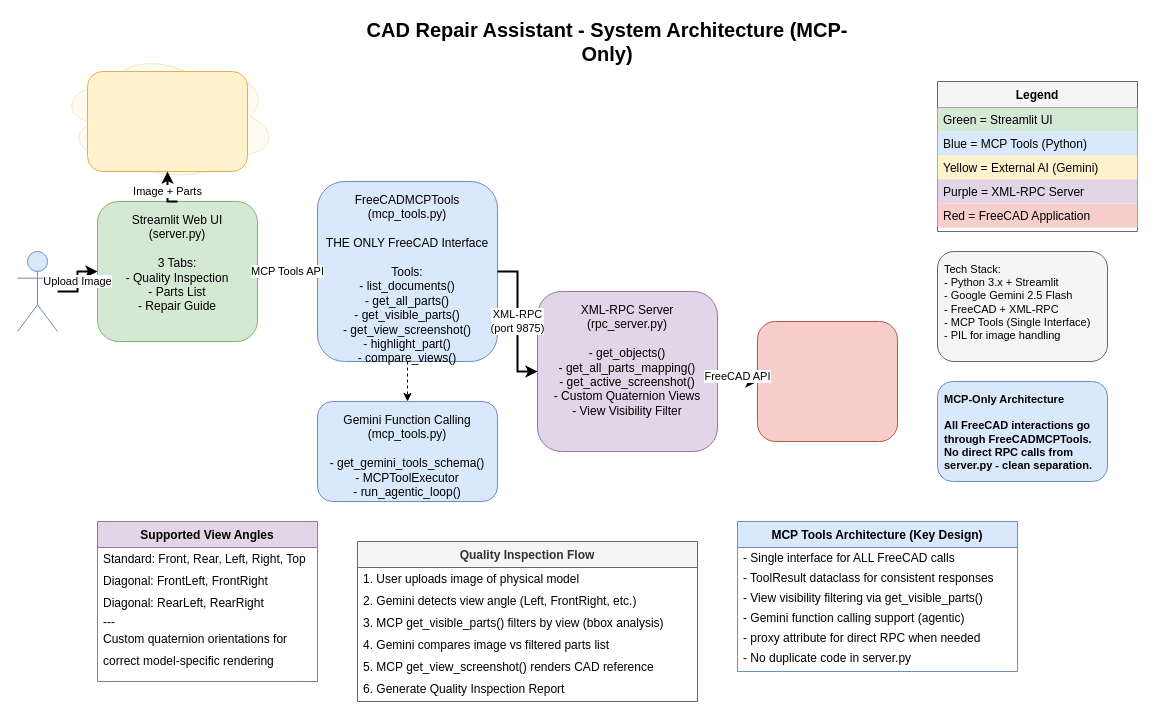
This 1155x719 diagram has some shape labels left out. Each missing label, with the centre of its shape:
FreeCAD - 3D CAD Model - Part Objects - View Rendering: point 827,381
Google Gemini API - View Detection - Image Analysis - Report Generation: point 167,121
User: point 37,291
